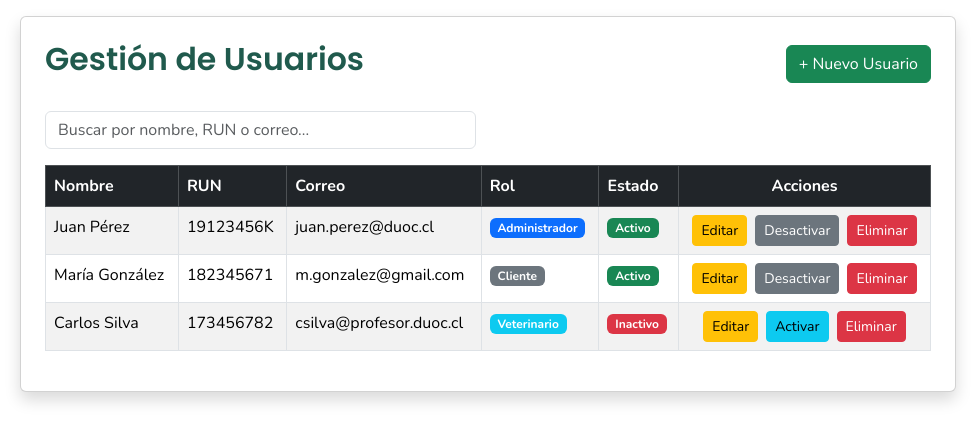
it: UsuariosAdmin Component › filtra usuarios según el texto ingresado en el buscador
In the field with placeholder "Buscar por nombre, RUN o correo...": (260, 130) [45,111,476,149], type "María"
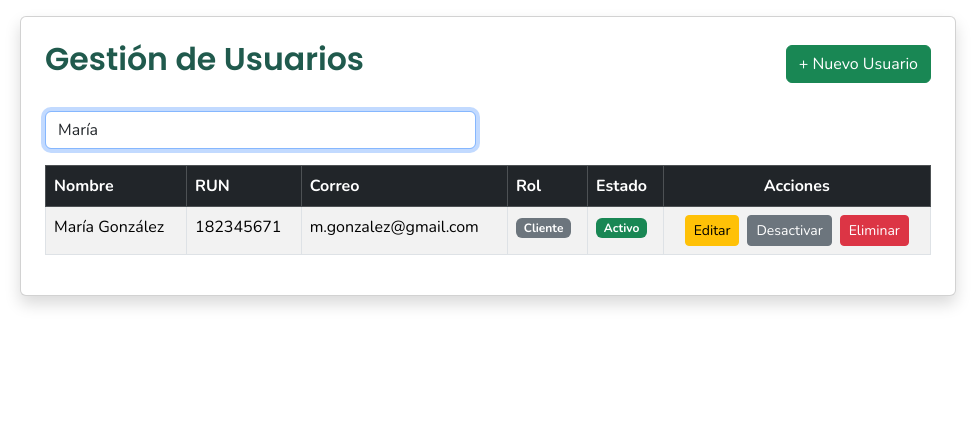
Expected: the text "María González" is shown, [46,206,186,254]
Now the text "Juan Pérez" is gone
Now the text "Carlos Silva" is gone
